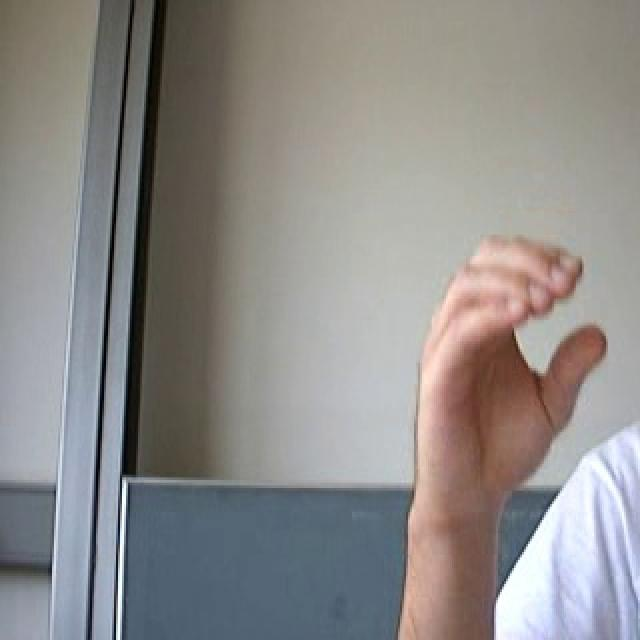C: (382, 217, 631, 511)
